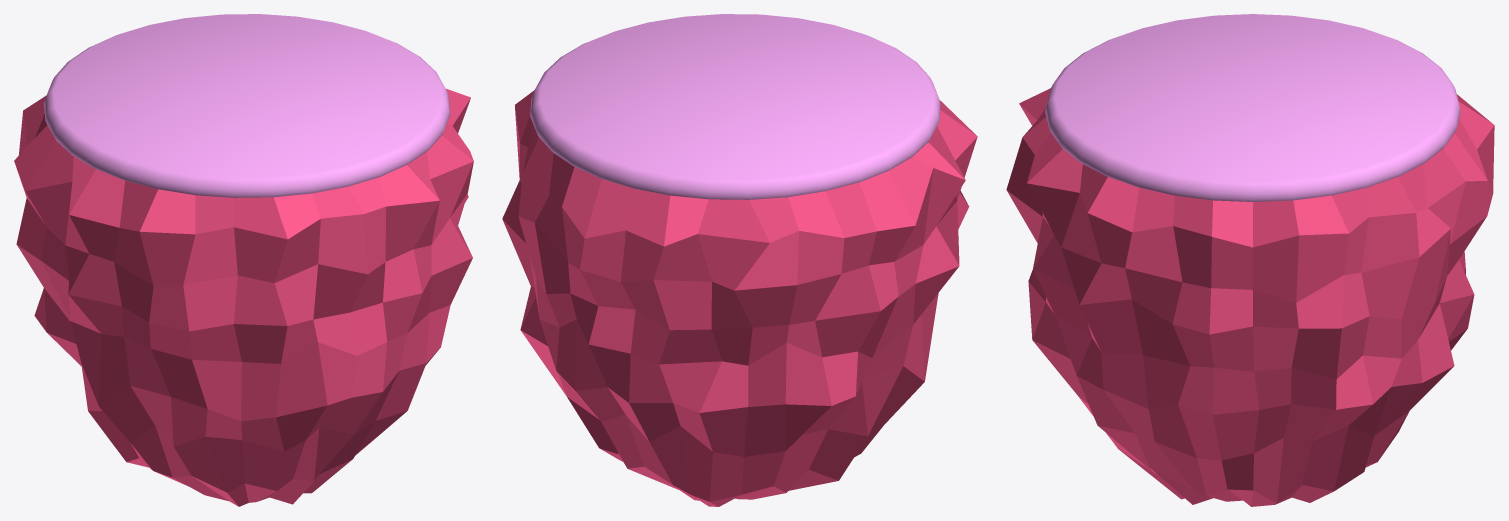
Rendered from island4_Pink.fbx.
The picture shows the model from 3 angles, left to right: view 1: azimuth 30°, elevation 25°; view 2: azimuth 150°, elevation 25°; view 3: azimuth 270°, elevation 25°; orthographic projection. The views are drawn at different scales.
Visible parts, largest first — view 1: island(4); view 2: island(4); view 3: island(4).
Part boxes in pixels (x1,y1,x2,y2): island(4): (14,14,473,506); island(4): (502,14,977,506); island(4): (1006,14,1494,506).
Size of the model in its own units: 35.51 by 31.92 by 36.15.
Materials: 1 (1 with a texture image).
